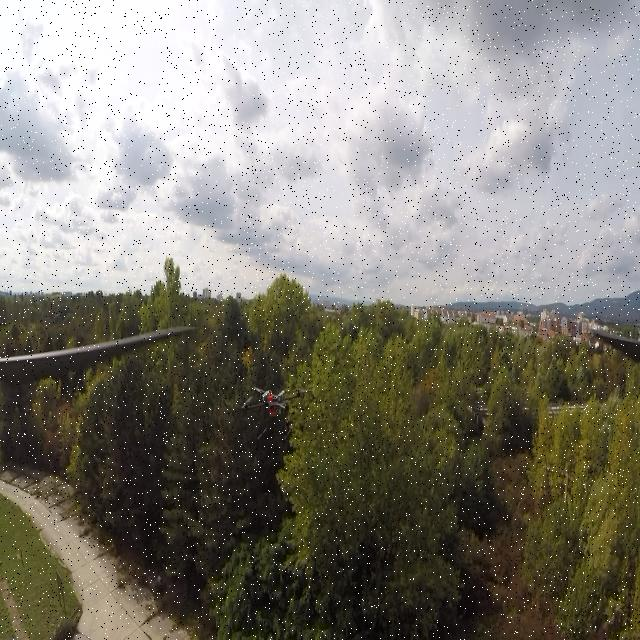UAV: (238, 381, 316, 446)
